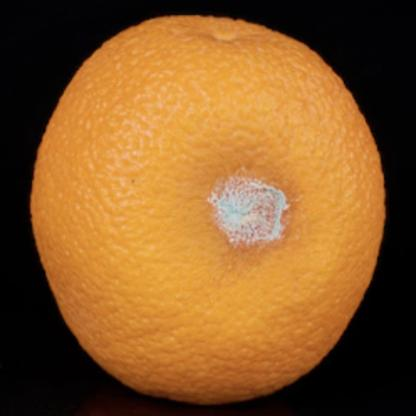rotten: (35, 16, 387, 405)
